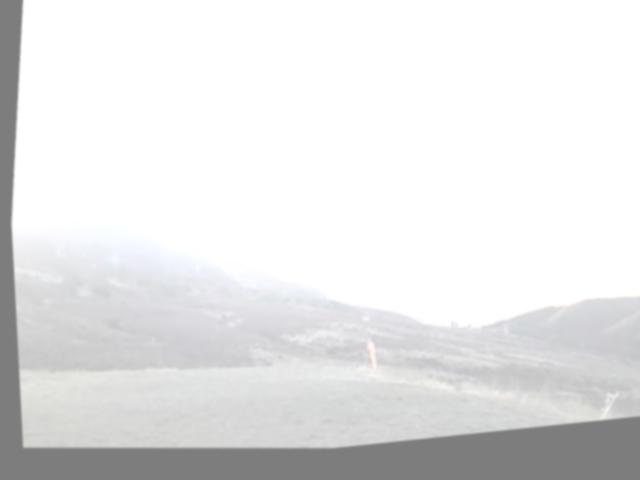iha: (316, 188, 345, 213)
